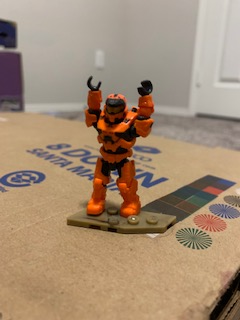spartan: (83, 72, 156, 217), (83, 76, 155, 151)
